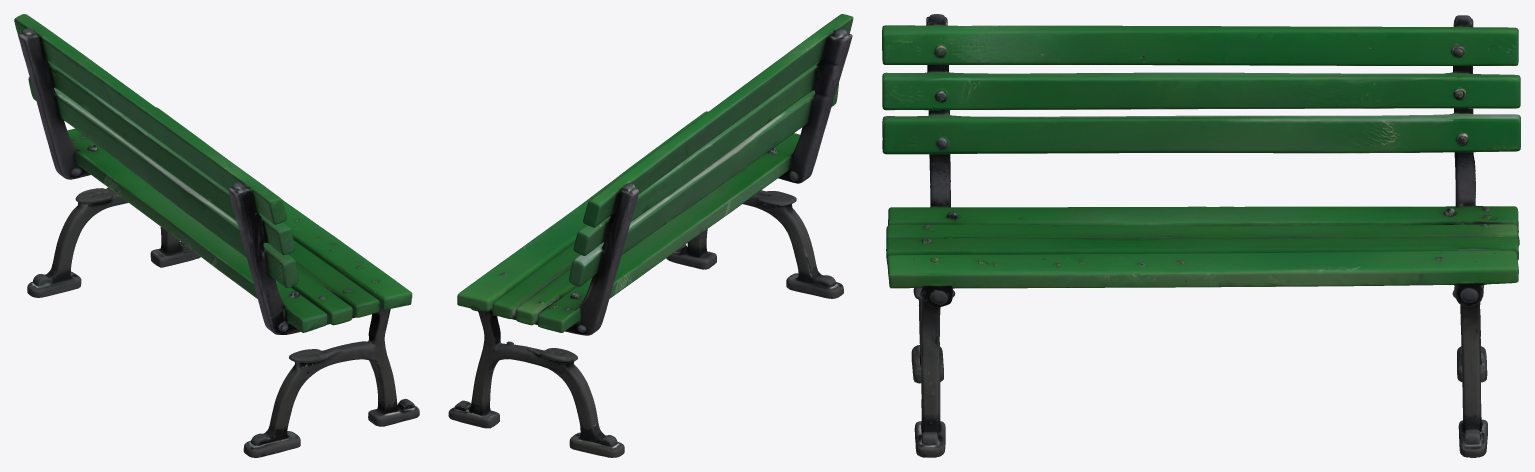
The model's file is prop-bench-park.glb.
The picture shows the model from 3 angles, left to right: view 1: azimuth 30°, elevation 25°; view 2: azimuth 150°, elevation 25°; view 3: azimuth 270°, elevation 25°; orthographic projection. The views are drawn at different scales.
Parts seen in each view (by area): view 1: tripo_node_4f599135-69bc-4a92-b3ab-d2d38d70fb2e; view 2: tripo_node_4f599135-69bc-4a92-b3ab-d2d38d70fb2e; view 3: tripo_node_4f599135-69bc-4a92-b3ab-d2d38d70fb2e.
Boxes of the visible parts, <box> form: tripo_node_4f599135-69bc-4a92-b3ab-d2d38d70fb2e: <box>14,14,419,457</box>; tripo_node_4f599135-69bc-4a92-b3ab-d2d38d70fb2e: <box>448,14,853,457</box>; tripo_node_4f599135-69bc-4a92-b3ab-d2d38d70fb2e: <box>882,14,1520,457</box>.
Bounding box in the file's own units: 0.7137 × 1 × 1.72.
1 material, 1 textured.
